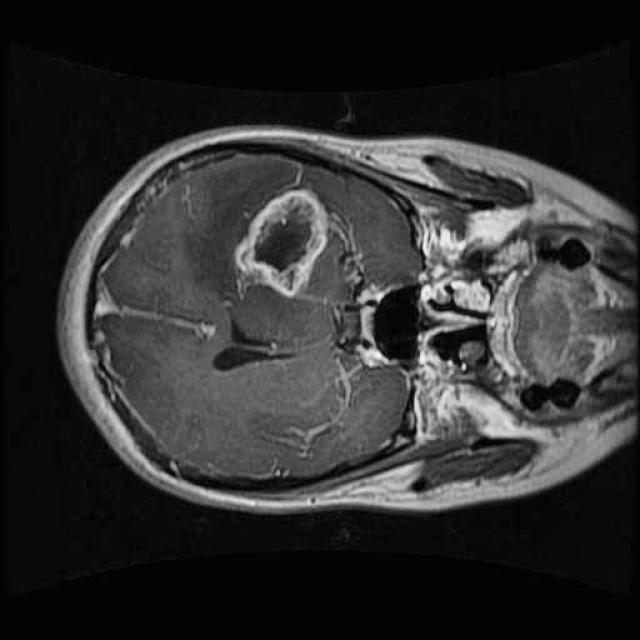Non-Tumor: (226, 175, 339, 308)
